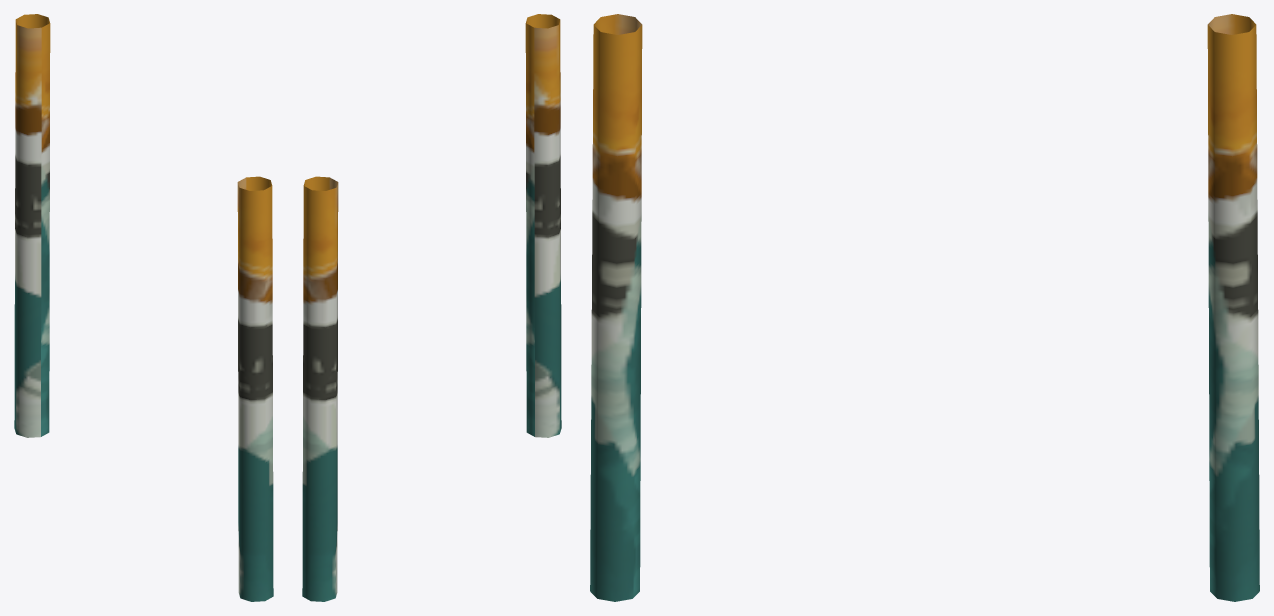
The model's file is ConveyorBeltBar.fbx.
3 renders of one model, left to right at view 1: azimuth 30°, elevation 25°; view 2: azimuth 150°, elevation 25°; view 3: azimuth 270°, elevation 25°, orthographic. The views are drawn at different scales.
Visible parts, largest first — view 1: ConveyorBeltBar; view 2: ConveyorBeltBar; view 3: ConveyorBeltBar.
Part boxes in pixels (<box>): ConveyorBeltBar: <box>14,14,273,601</box>; ConveyorBeltBar: <box>302,14,561,601</box>; ConveyorBeltBar: <box>590,14,1259,601</box>.
Bounding box in the file's own units: 0.16 × 2 × 2.15.
